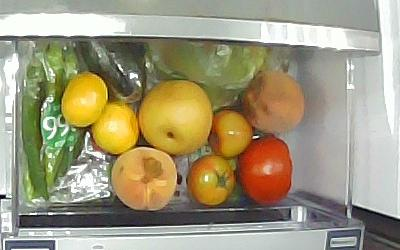peach: (109, 144, 177, 211), (239, 68, 304, 132)
pear: (137, 77, 213, 154)
tangerine: (60, 70, 108, 127), (90, 100, 140, 153)
tomato: (234, 133, 293, 204), (185, 153, 236, 206), (206, 108, 253, 158)
